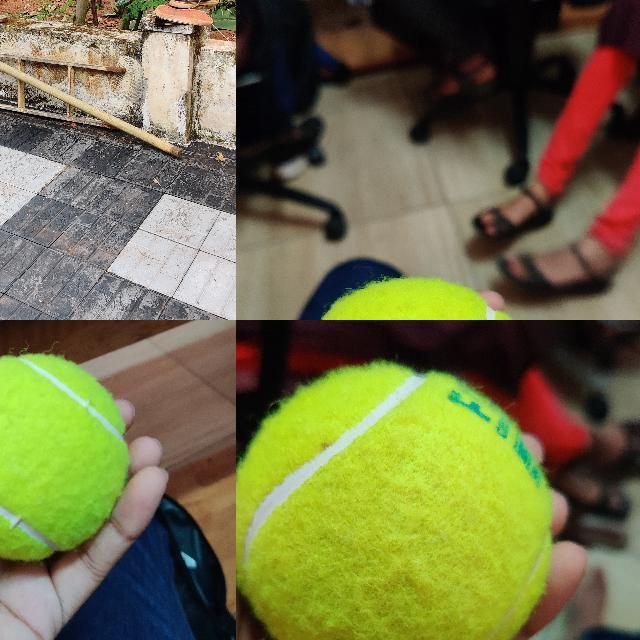tennis-ball: (236, 367, 550, 639), (0, 354, 127, 559)
